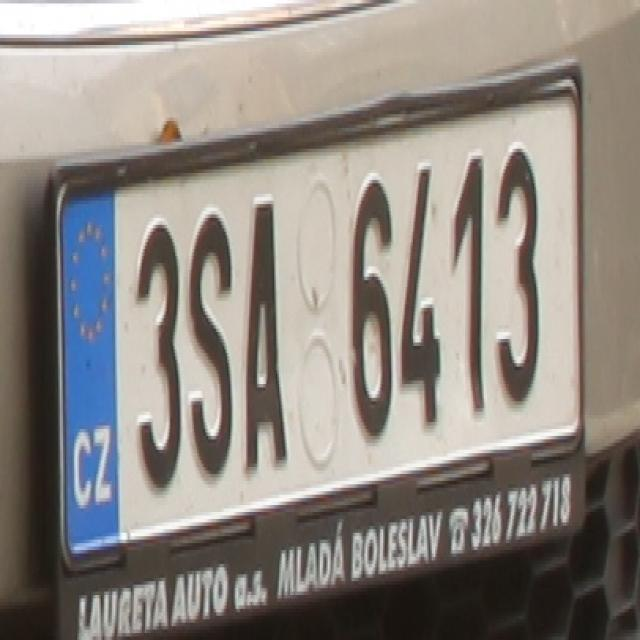1: (451, 145, 490, 415)
3: (134, 214, 181, 488), (498, 142, 538, 408)
4: (402, 159, 446, 426)
6: (345, 173, 394, 429)
A: (243, 194, 288, 467)
S: (184, 207, 237, 481)
